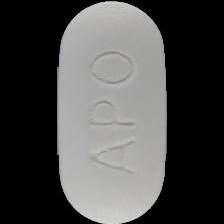60505-2795: (0, 0, 224, 224)
